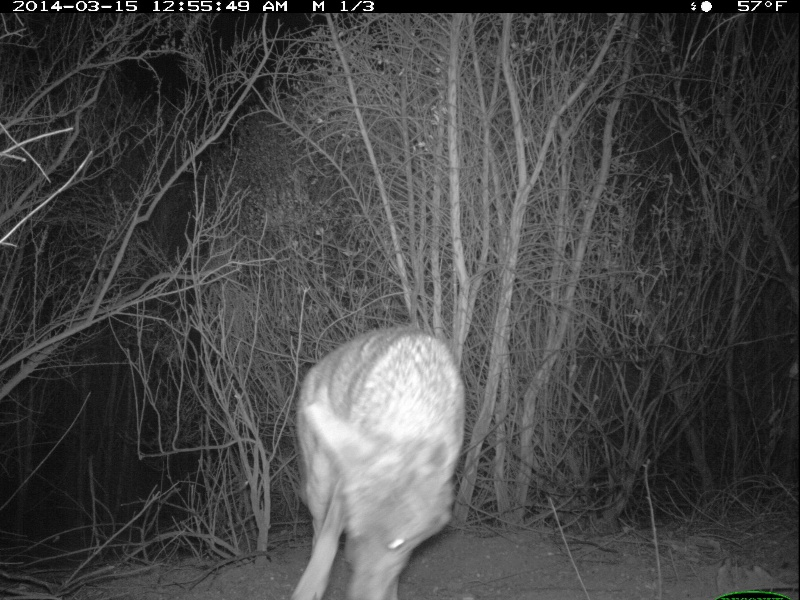coyote: (288, 325, 467, 600)
